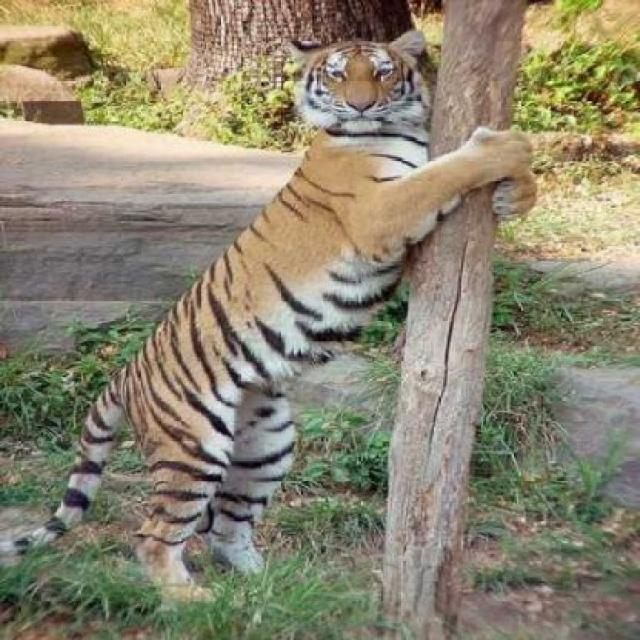Tiger: (18, 18, 551, 585)
